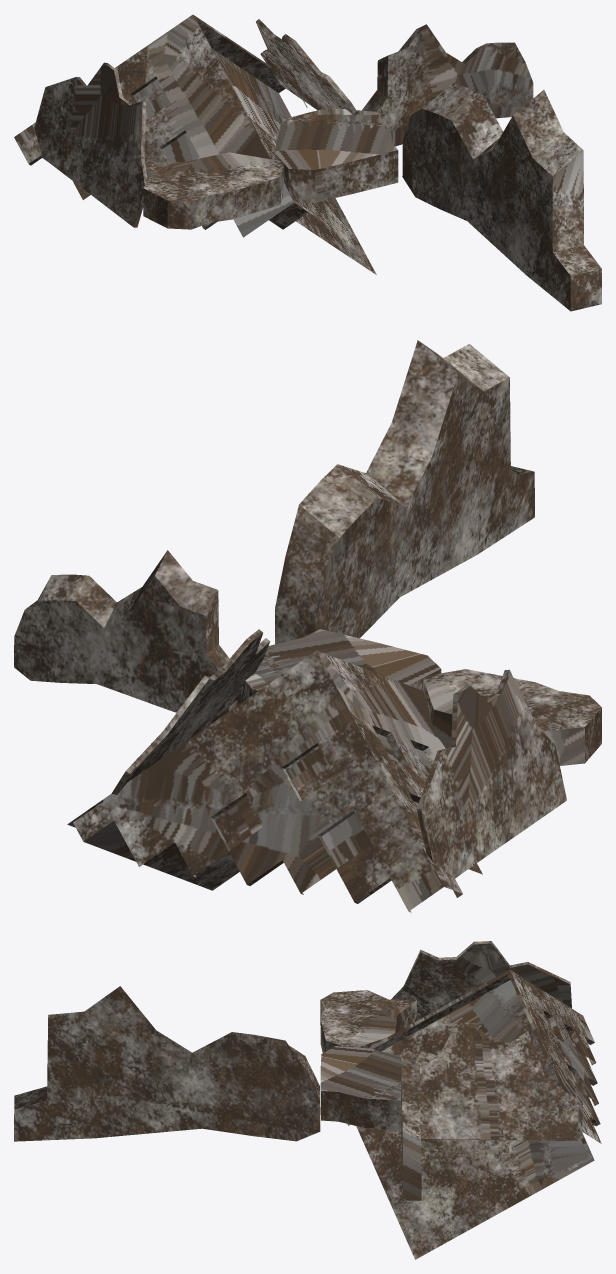
The model's file is Ruinas1.obj.
The picture shows the model from 3 angles, top to bottom: view 1: azimuth 30°, elevation 25°; view 2: azimuth 150°, elevation 25°; view 3: azimuth 270°, elevation 25°; orthographic projection. The views are drawn at different scales.
Parts seen in each view (by area): view 1: Box107; view 2: Box107; view 3: Box107.
Part boxes in pixels (bbox=[...]): Box107: bbox=[14, 14, 601, 311]; Box107: bbox=[14, 340, 601, 912]; Box107: bbox=[14, 941, 601, 1259].
Size of the model in its own units: 107 by 74.24 by 143.
